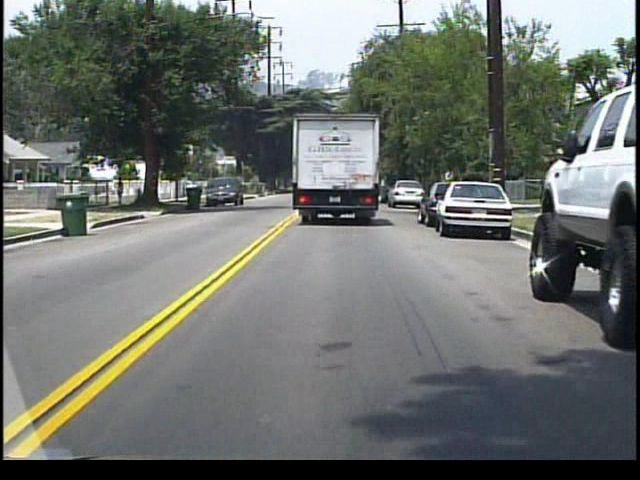person: (116, 176, 128, 207)
